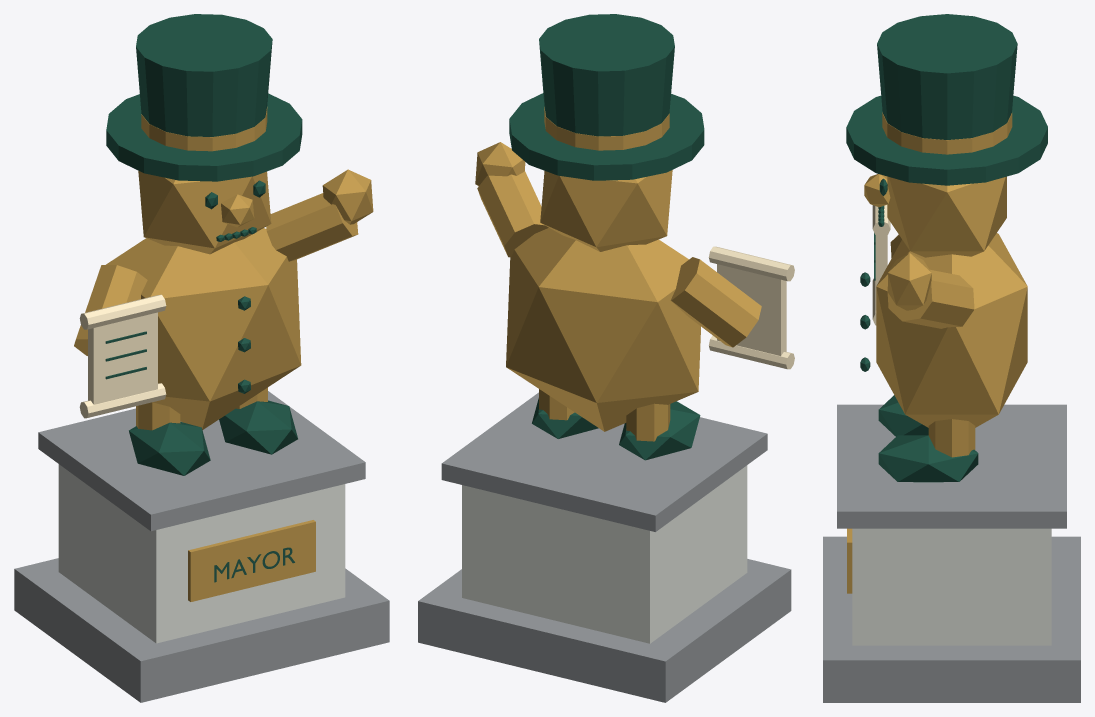
File: mayor_statue.glb
The picture shows the model from 3 angles, left to right: view 1: azimuth 30°, elevation 25°; view 2: azimuth 150°, elevation 25°; view 3: azimuth 270°, elevation 25°; orthographic projection. The views are drawn at different scales.
Visible parts, largest first — view 1: plinth, round_belly, plinth_foot, plinth_cap, top_hat, hat_brim, head, plaque, scroll, arm_right, shoe, shoe.001 (+8 smaller); view 2: plinth, round_belly, plinth_foot, plinth_cap, top_hat, hat_brim, head, arm_left, arm_right, scroll, shoe, hat_band (+6 smaller); view 3: plinth, plinth_cap, plinth_foot, round_belly, top_hat, hat_brim, head, shoe.001, arm_right, hat_band, hand, leg.001 (+4 smaller).
Part boxes in pixels (x1,y1,x2,y2): plinth: [58, 464, 345, 643]; round_belly: [106, 228, 301, 429]; plinth_foot: [14, 558, 389, 702]; plinth_cap: [38, 391, 365, 531]; top_hat: [136, 14, 272, 136]; hat_brim: [106, 93, 302, 181]; head: [138, 170, 271, 254]; plaque: [188, 520, 315, 601]; scroll: [88, 312, 157, 404]; arm_right: [266, 193, 358, 261]; shoe: [129, 422, 210, 475]; shoe.001: [219, 400, 297, 454]; plinth: [462, 465, 747, 643]; round_belly: [506, 228, 700, 431]; plinth_foot: [418, 559, 791, 702]; plinth_cap: [441, 392, 767, 531]; top_hat: [539, 14, 674, 136]; hat_brim: [509, 93, 704, 180]; head: [540, 170, 672, 251]; arm_left: [670, 257, 761, 347]; arm_right: [477, 171, 548, 257]; scroll: [717, 264, 786, 355]; shoe: [619, 401, 700, 460]; hat_band: [544, 107, 669, 150]; plinth: [852, 528, 1051, 645]; plinth_cap: [837, 404, 1066, 528]; plinth_foot: [823, 536, 1080, 702]; round_belly: [876, 233, 1027, 427]; top_hat: [877, 14, 1017, 139]; hat_brim: [846, 95, 1047, 185]; head: [887, 176, 1006, 257]; shoe.001: [878, 435, 978, 482]; arm_right: [887, 269, 974, 328]; hat_band: [882, 112, 1012, 154]; hand: [888, 253, 931, 310]; leg.001: [928, 419, 975, 457].
Bounding box in the file's own units: 1.51 × 2.81 × 1.1.
